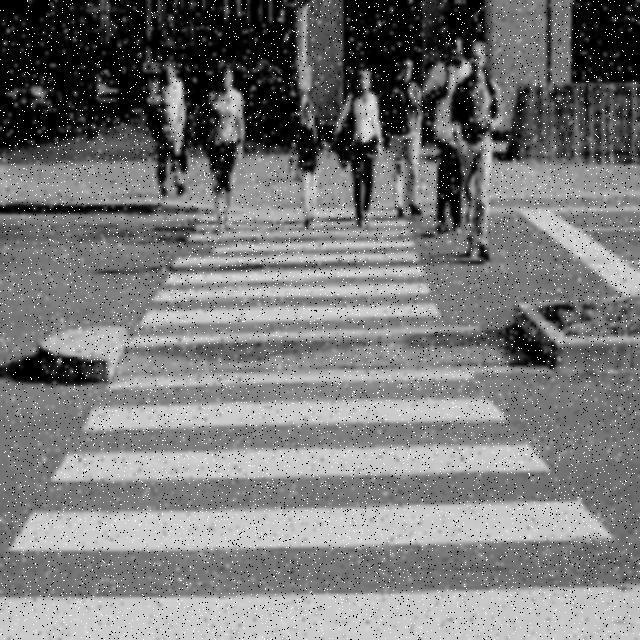crosswalk: (0, 215, 640, 640)
